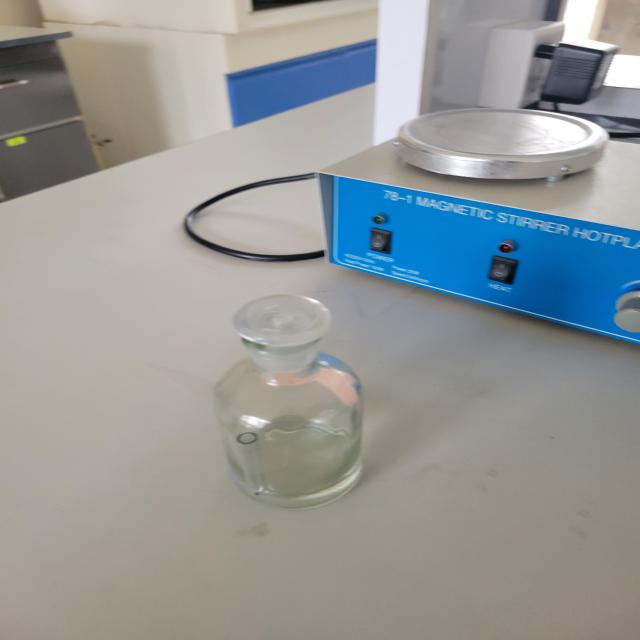Reagent_Bottle: (184, 262, 390, 541)
